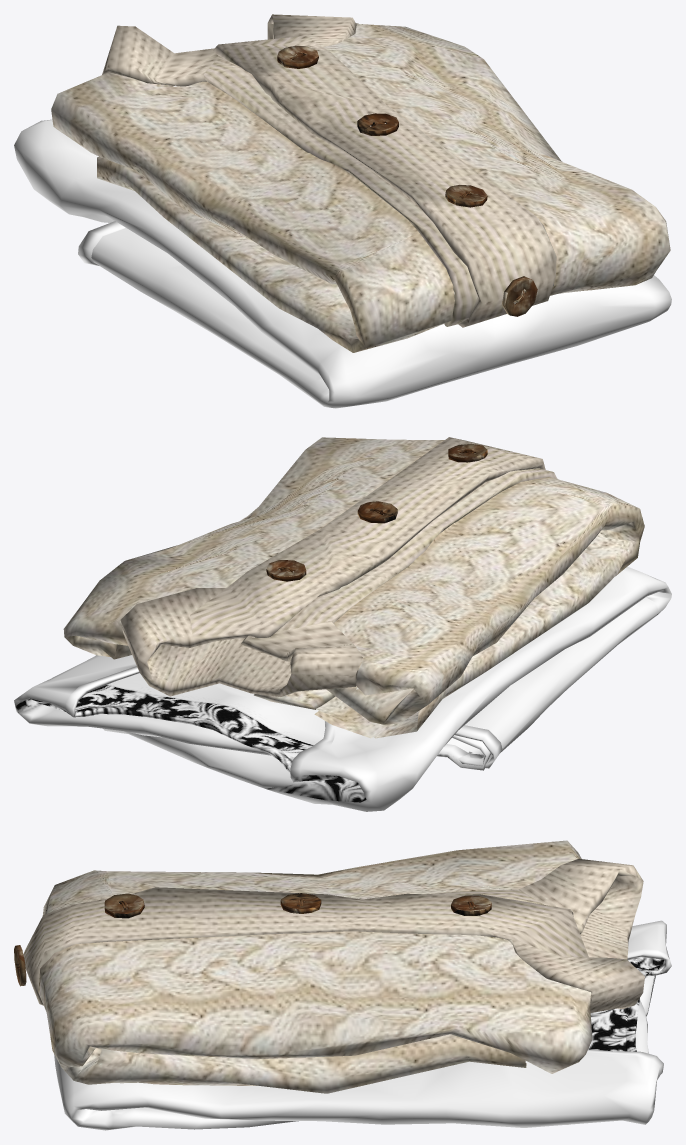
Rendered from shelf-group_knitted_sweater.glb.
3 renders of one model, top to bottom at view 1: azimuth 30°, elevation 25°; view 2: azimuth 150°, elevation 25°; view 3: azimuth 270°, elevation 25°, orthographic. The views are drawn at different scales.
Visible parts, largest first — view 1: knitted_sweater01.001, knitted_sweater02.001, button018.001; view 2: knitted_sweater01.001, knitted_sweater02.001, button018.001; view 3: knitted_sweater01.001, knitted_sweater02.001, button018.001.
Part boxes in pixels (<box>): knitted_sweater01.001: <box>51,14,670,352</box>; knitted_sweater02.001: <box>14,119,671,408</box>; button018.001: <box>277,45,537,316</box>; knitted_sweater01.001: <box>63,437,644,738</box>; knitted_sweater02.001: <box>14,566,671,811</box>; button018.001: <box>266,443,487,581</box>; knitted_sweater01.001: <box>23,840,644,1093</box>; knitted_sweater02.001: <box>46,920,671,1130</box>; button018.001: <box>14,893,491,986</box>.
Bounding box in the file's own units: 0.3078 × 0.1174 × 0.4381.
Materials: 4 (4 with a texture image).
